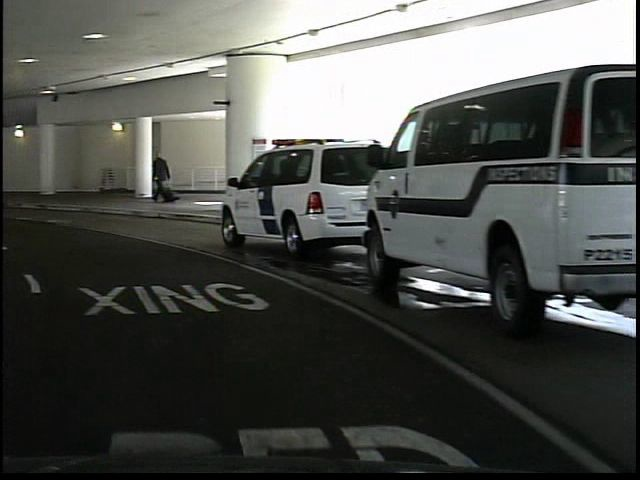person: (145, 147, 170, 207)
